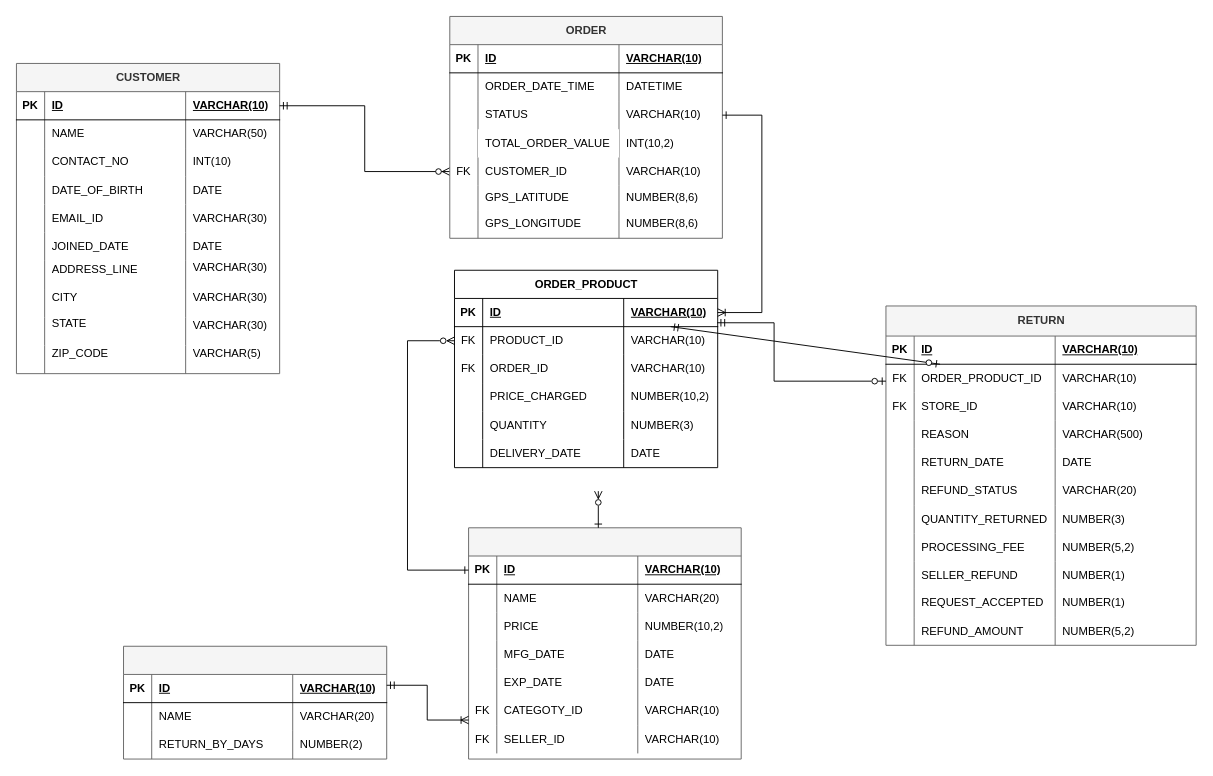
The diagram is 1213 pixels wide and 776 high, and some of its shapes have lost their labels. The shapes that lost their labels are listed below. From the top down, each one's box as (x1, y1, x2, y2) in pixels, then its label:
(468, 527, 741, 759): PRODUCT
(123, 645, 387, 759): CATEGORY
